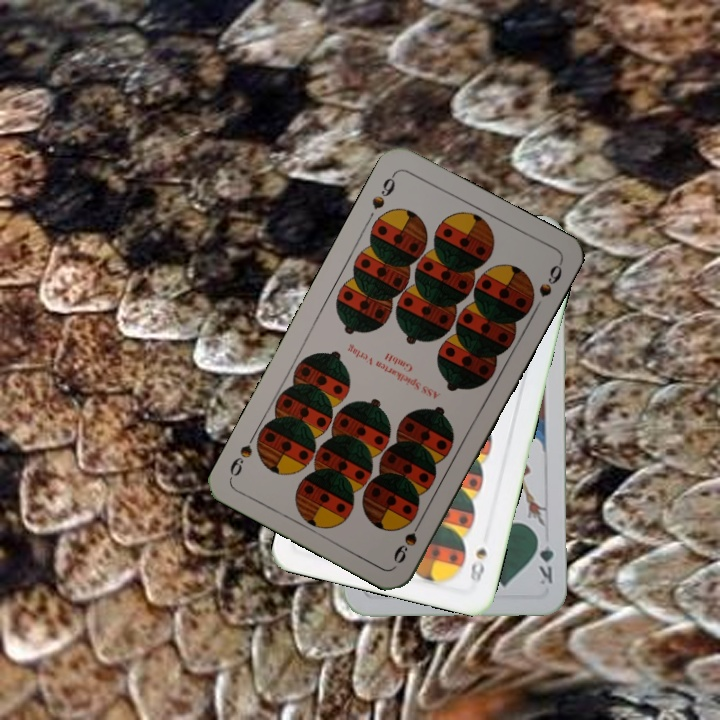GK: (533, 530, 557, 587)
S8: (466, 543, 490, 589)
S9: (389, 513, 426, 566), (367, 169, 398, 212)
